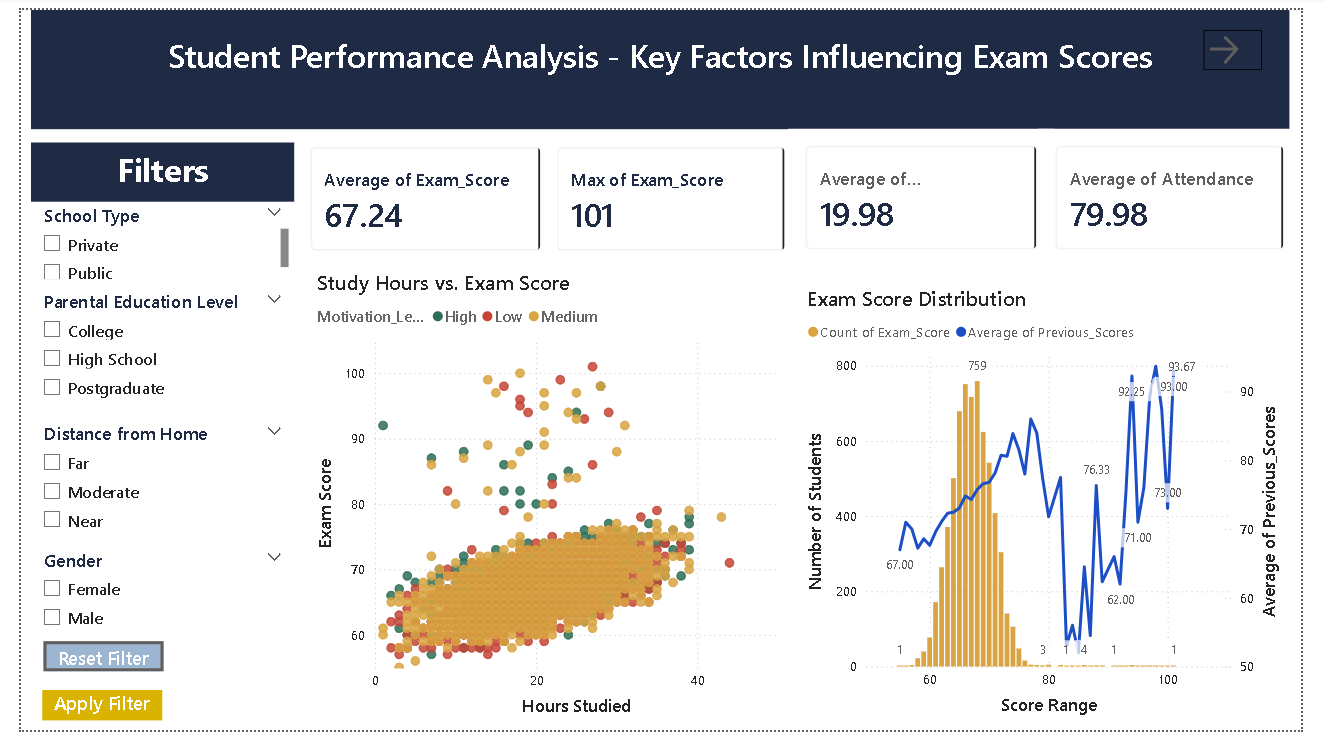

The page's visual inventory and layout, read from the dashboard file:
{"tool":"powerbi","page":{"name":"Page 1","canvas":[1280,720],"ordinal":0},"visuals":[{"type":"textbox","box":[9.6,0,1258.3,119.4],"z":0},{"type":"cardVisual","fields":{"Data":["Max(StudentPerformanceFactors.Exam_Score)"]},"box":[518.5,119.8,262.9,138.2],"z":1000},{"type":"cardVisual","fields":{"Data":["Avg(StudentPerformanceFactors.Hours_Studied)"]},"box":[767.9,118.6,265.4,138.2],"z":2000},{"type":"cardVisual","fields":{"Data":["Avg(StudentPerformanceFactors.Attendance)"]},"box":[1017.4,118.6,262.9,138.2],"z":3000},{"type":"cardVisual","fields":{"Data":["Avg(StudentPerformanceFactors.Exam_Score)"]},"box":[272.7,119.8,264.1,138.2],"z":4000},{"type":"lineClusteredColumnComboChart","title":"Exam Score Distribution","fields":{"Category":["StudentPerformanceFactors.Exam_Score"],"Y":["CountNonNull(StudentPerformanceFactors.Exam_Score)"],"Y2":["Avg(StudentPerformanceFactors.Previous_Scores)"]},"box":[781.8,273.9,486.2,436.7],"z":5000},{"type":"scatterChart","title":"Study Hours vs. Exam Score ","fields":{"X":["StudentPerformanceFactors.Hours_Studied"],"Y":["StudentPerformanceFactors.Exam_Score"],"Series":["StudentPerformanceFactors.Motivation_Level"]},"box":[290.8,257,477.8,453.6],"z":6000},{"type":"slicer","fields":{"Values":["StudentPerformanceFactors.School_Type"]},"box":[9.7,187.8,263,86.3],"z":7000},{"type":"slicer","fields":{"Values":["StudentPerformanceFactors.Parental_Education_Level"]},"box":[9.7,274.1,263,132.2],"z":8000},{"type":"slicer","fields":{"Values":["StudentPerformanceFactors.Distance_from_Home"]},"box":[9.7,406.3,263,126.6],"z":9000},{"type":"textbox","box":[9.6,133.1,263.5,59],"z":10000},{"type":"slicer","fields":{"Values":["StudentPerformanceFactors.Gender"]},"box":[9.7,532.9,263,103],"z":11000},{"type":"actionButton","box":[1182.6,19.5,58.4,40.3],"z":12000},{"type":"actionButton","box":[22.3,631.7,120,30],"z":17000},{"type":"actionButton","title":"Apply Filter","box":[21.7,680.4,120,30],"z":18000}]}

Visuals, with their boxes in screenshot pixels (x1, y1, x2, y2), scaled from the page's 1280x720 canvas onto the 1325x749 screenshot:
textbox: l=10, t=0, r=1312, b=124
cardVisual - Max(StudentPerformanceFactors.Exam_Score): l=537, t=125, r=809, b=268
cardVisual - Avg(StudentPerformanceFactors.Hours_Studied): l=795, t=123, r=1070, b=267
cardVisual - Avg(StudentPerformanceFactors.Attendance): l=1053, t=123, r=1324, b=267
cardVisual - Avg(StudentPerformanceFactors.Exam_Score): l=282, t=125, r=556, b=268
"Exam Score Distribution" lineClusteredColumnComboChart: l=809, t=285, r=1313, b=739
"Study Hours vs. Exam Score " scatterChart: l=301, t=267, r=796, b=739
slicer - StudentPerformanceFactors.School_Type: l=10, t=195, r=282, b=285
slicer - StudentPerformanceFactors.Parental_Education_Level: l=10, t=285, r=282, b=423
slicer - StudentPerformanceFactors.Distance_from_Home: l=10, t=423, r=282, b=554
textbox: l=10, t=138, r=283, b=200
slicer - StudentPerformanceFactors.Gender: l=10, t=554, r=282, b=662
actionButton: l=1224, t=20, r=1285, b=62
actionButton: l=23, t=657, r=147, b=688
"Apply Filter" actionButton: l=22, t=708, r=147, b=739
